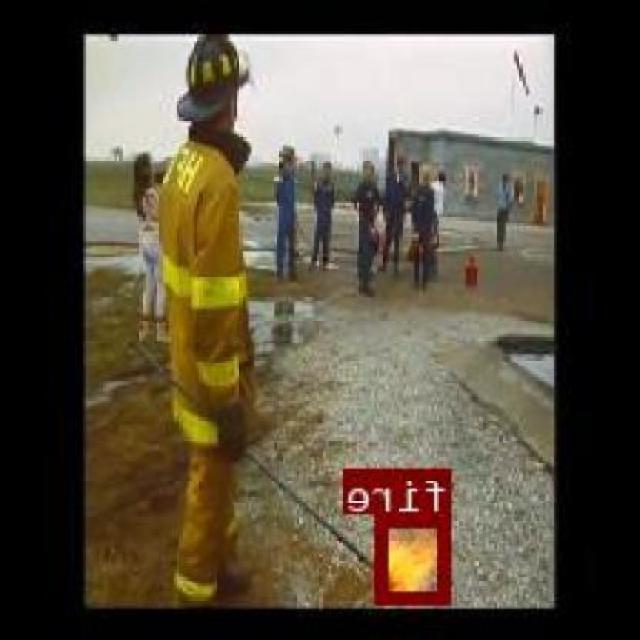Fire: (378, 514, 454, 602)
